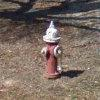Hydrant: (31, 14, 74, 92)
